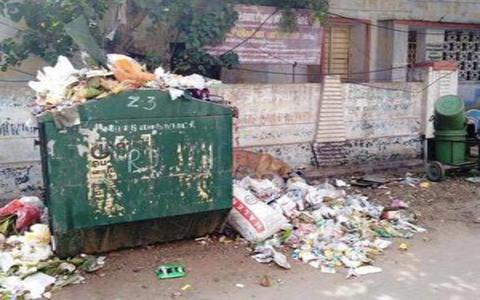overflowing garbage: (35, 69, 335, 273)
